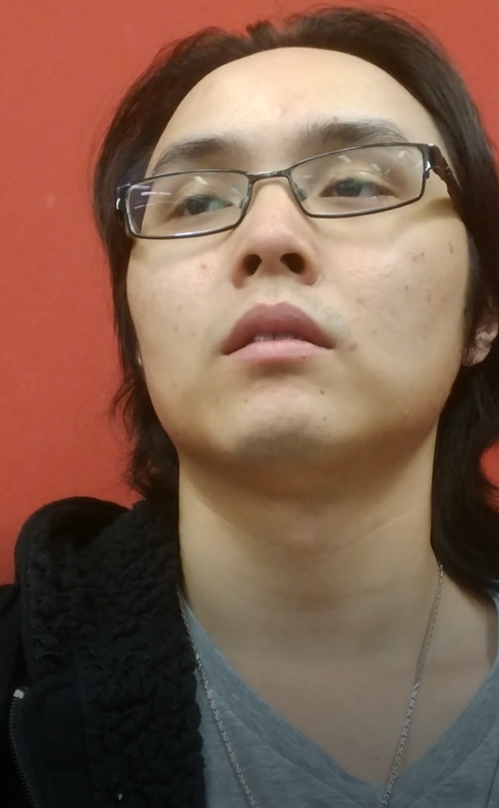Half Asleep: (127, 154, 452, 238)
